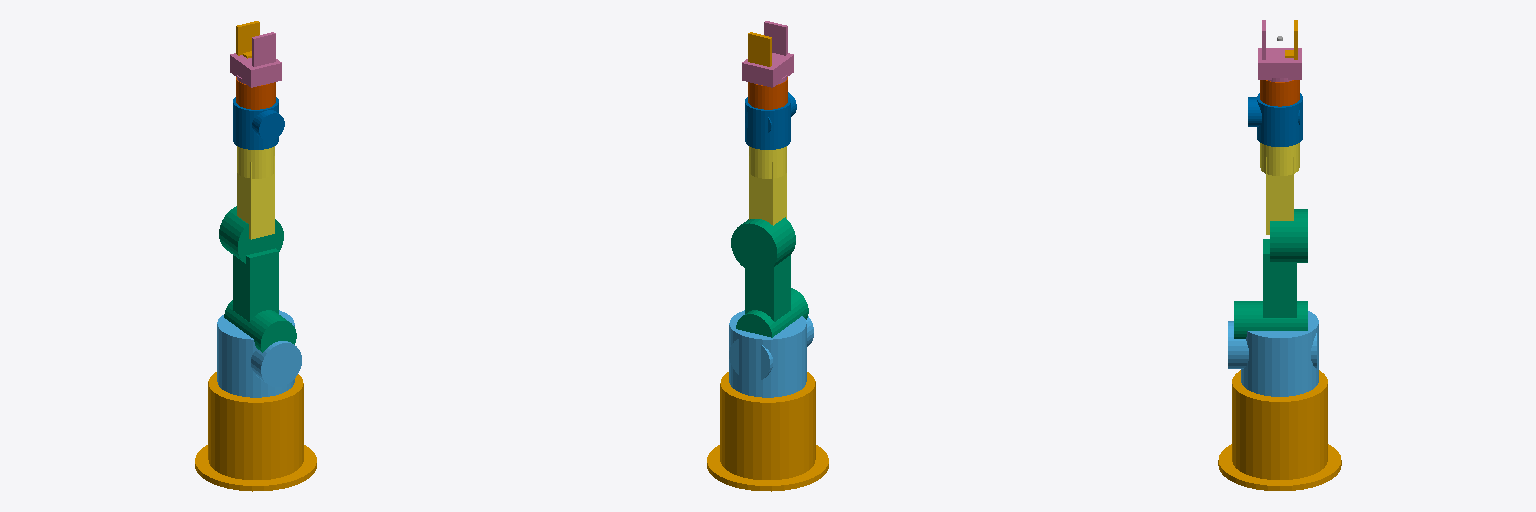
robot.urdf — ita6:
<?xml version="1.0"?>
<!--
  ITA-6 : 6-DOF spherical-wrist manipulator, with parallel-jaw gripper.

  GENERATED by examples/ita6/design_ita6.py : do not hand-edit; re-run the
  script. Link lengths are the winner of a 6x6 design sweep scored on
  caliper's own reachability / manipulability / limit-margin analysis over a
  150 x 240 x 160 mm table-top work zone.

  KINEMATICS (canonical spherical-wrist 6R; every joint origin rpy = 0):
    J1 yaw    axis Z at z = 0.125 m
    J2 pitch  axis Y  (shoulder)      L2 = 0.16 m to the elbow
    J3 pitch  axis Y  (elbow)         L3 = 0.19 m to the wrist centre
    J4 roll   axis Z  |
    J5 pitch  axis Y  +-  these three axes intersect at the WRIST CENTRE
    J6 roll   axis Z  |
    tcp_mount fixed, +0.1 m -> TCP (the frame IK and the task address)
  Reach, base axis -> TCP, arm extended: 0.45 m.

  MASS MODEL : composed analytically from a bill of materials, not guessed:
    aluminium 6061 tube/plate  rho = 2700 kg/m^3   (walls modelled as real walls)
    PLA-CF printed shells      rho = 1240 kg/m^3  (hollow geometry, solid wall)
    steel shafts/screws        rho = 7850 kg/m^3
    NEMA17 0.3 kg | NEMA14 0.14 kg | NEMA11 0.07 kg
    strain wave 0.13 kg | planetary 0.16/0.06/0.03 kg
  Each <inertial> is the parallel-axis sum of those primitives about the link
  COM : valid by construction, which is why A002 passes without tuning.

  DRIVETRAIN -> <limit> (tau_out = tau_motor * ratio * efficiency):
    J1 NEMA17 0.50 N.m x 30:1 belt+planetary x 0.80 -> 12 N.m, 2.433 rad/s
    J2 NEMA17 0.50 N.m x 30:1 strain wave    x 0.80 -> 12 N.m, 2.433 rad/s
    J3 NEMA17 0.50 N.m x 30:1 strain wave    x 0.80 -> 12 N.m, 2.433 rad/s
    J4 NEMA14 0.22 N.m x 20:1 planetary      x 0.75 -> 3.3 N.m, 3.65 rad/s
    J5 NEMA14 0.22 N.m x 20:1 planetary      x 0.75 -> 3.3 N.m, 3.65 rad/s
    J6 NEMA11 0.09 N.m x 14:1 planetary      x 0.75 -> 0.945 N.m, 5.214 rad/s

  Every <collision> is also the <visual>: the shape the doctor lints, the shape
  MuJoCo integrates and the shape the render shows are one object.
-->
<robot name="ita6">

  <link name="base">
    <inertial>
      <origin xyz="0 0 0.0427254" rpy="0 0 0"/>
      <mass value="1.21699"/>
      <inertia ixx="0.0032105318" ixy="0" ixz="0" iyy="0.0032105318" iyz="0" izz="0.0026281716"/>
    </inertial>
    <visual>
      <origin xyz="0 0 0.004" rpy="0 0 0"/>
      <geometry><cylinder radius="0.082" length="0.008"/></geometry>
    </visual>
    <collision>
      <origin xyz="0 0 0.004" rpy="0 0 0"/>
      <geometry><cylinder radius="0.082" length="0.008"/></geometry>
    </collision>
    <visual>
      <origin xyz="0 0 0.0655" rpy="0 0 0"/>
      <geometry><cylinder radius="0.064" length="0.115"/></geometry>
    </visual>
    <collision>
      <origin xyz="0 0 0.0655" rpy="0 0 0"/>
      <geometry><cylinder radius="0.064" length="0.115"/></geometry>
    </collision>
  </link>
  <link name="shoulder">
    <inertial>
      <origin xyz="0 -0.0179585 0.0497035" rpy="0 0 0"/>
      <mass value="0.62366"/>
      <inertia ixx="0.00092130391" ixy="0" ixz="0" iyy="0.00042553389" iyz="2.57203e-05" izz="0.00099364391"/>
    </inertial>
    <visual>
      <origin xyz="0 0 0.043" rpy="0 0 0"/>
      <geometry><cylinder radius="0.052" length="0.086"/></geometry>
    </visual>
    <collision>
      <origin xyz="0 0 0.043" rpy="0 0 0"/>
      <geometry><cylinder radius="0.052" length="0.086"/></geometry>
    </collision>
    <visual>
      <origin xyz="0 -0.01 0.052" rpy="1.5708 0 0"/>
      <geometry><cylinder radius="0.032" length="0.118"/></geometry>
    </visual>
    <collision>
      <origin xyz="0 -0.01 0.052" rpy="1.5708 0 0"/>
      <geometry><cylinder radius="0.032" length="0.118"/></geometry>
    </collision>
  </link>
  <link name="upper_arm">
    <inertial>
      <origin xyz="0 -0.0193916 0.073646" rpy="0 0 0"/>
      <mass value="0.569317"/>
      <inertia ixx="0.0022936241" ixy="0" ixz="0" iyy="0.001919812" iyz="-0.00069665222" izz="0.00056807286"/>
    </inertial>
    <visual>
      <origin xyz="0 0 0.08" rpy="0 0 0"/>
      <geometry><box size="0.046 0.046 0.13"/></geometry>
    </visual>
    <collision>
      <origin xyz="0 0 0.08" rpy="0 0 0"/>
      <geometry><box size="0.046 0.046 0.13"/></geometry>
    </collision>
    <visual>
      <origin xyz="0 -0.012 0.034" rpy="1.5708 0 0"/>
      <geometry><cylinder radius="0.028" length="0.098"/></geometry>
    </visual>
    <collision>
      <origin xyz="0 -0.012 0.034" rpy="1.5708 0 0"/>
      <geometry><cylinder radius="0.028" length="0.098"/></geometry>
    </collision>
    <visual>
      <origin xyz="0 0.012 0.16" rpy="1.5708 0 0"/>
      <geometry><cylinder radius="0.036" length="0.05"/></geometry>
    </visual>
    <collision>
      <origin xyz="0 0.012 0.16" rpy="1.5708 0 0"/>
      <geometry><cylinder radius="0.036" length="0.05"/></geometry>
    </collision>
  </link>
  <link name="forearm">
    <inertial>
      <origin xyz="0 0 0.109221" rpy="0 0 0"/>
      <mass value="0.270426"/>
      <inertia ixx="0.00038567942" ixy="0" ixz="0" iyy="0.00038567942" iyz="0" izz="5.5337355e-05"/>
    </inertial>
    <visual>
      <origin xyz="0 0 0.0675" rpy="0 0 0"/>
      <geometry><box size="0.038 0.038 0.115"/></geometry>
    </visual>
    <collision>
      <origin xyz="0 0 0.0675" rpy="0 0 0"/>
      <geometry><box size="0.038 0.038 0.115"/></geometry>
    </collision>
    <visual>
      <origin xyz="0 0 0.1275" rpy="0 0 0"/>
      <geometry><cylinder radius="0.026" length="0.055"/></geometry>
    </visual>
    <collision>
      <origin xyz="0 0 0.1275" rpy="0 0 0"/>
      <geometry><cylinder radius="0.026" length="0.055"/></geometry>
    </collision>
  </link>
  <link name="wrist1">
    <inertial>
      <origin xyz="0 -0.0107696 -0.00984596" rpy="0 0 0"/>
      <mass value="0.259992"/>
      <inertia ixx="0.00014848351" ixy="0" ixz="0" iyy="6.6973303e-05" iyz="5.1686909e-06" izz="0.000152724"/>
    </inertial>
    <visual>
      <origin xyz="0 0 -0.016" rpy="0 0 0"/>
      <geometry><cylinder radius="0.031" length="0.058"/></geometry>
    </visual>
    <collision>
      <origin xyz="0 0 -0.016" rpy="0 0 0"/>
      <geometry><cylinder radius="0.031" length="0.058"/></geometry>
    </collision>
    <visual>
      <origin xyz="0 -0.008 -0.008" rpy="1.5708 0 0"/>
      <geometry><cylinder radius="0.02" length="0.07"/></geometry>
    </visual>
    <collision>
      <origin xyz="0 -0.008 -0.008" rpy="1.5708 0 0"/>
      <geometry><cylinder radius="0.02" length="0.07"/></geometry>
    </collision>
  </link>
  <link name="wrist2">
    <inertial>
      <origin xyz="0 0 0.0229267" rpy="0 0 0"/>
      <mass value="0.14028"/>
      <inertia ixx="3.8183831e-05" ixy="0" ixz="0" iyy="3.8183831e-05" iyz="0" izz="3.2251516e-05"/>
    </inertial>
    <visual>
      <origin xyz="0 0 0.024" rpy="0 0 0"/>
      <geometry><cylinder radius="0.027" length="0.048"/></geometry>
    </visual>
    <collision>
      <origin xyz="0 0 0.024" rpy="0 0 0"/>
      <geometry><cylinder radius="0.027" length="0.048"/></geometry>
    </collision>
  </link>
  <link name="tool">
    <inertial>
      <origin xyz="0 -0.0036362 0.0670068" rpy="0 0 0"/>
      <mass value="0.133603"/>
      <inertia ixx="7.0171142e-05" ixy="0" ixz="0" iyy="5.8692446e-05" iyz="1.5056649e-05" izz="4.49105e-05"/>
    </inertial>
    <visual>
      <origin xyz="0 0 0.051" rpy="0 0 0"/>
      <geometry><cylinder radius="0.026" length="0.006"/></geometry>
    </visual>
    <collision>
      <origin xyz="0 0 0.051" rpy="0 0 0"/>
      <geometry><cylinder radius="0.026" length="0.006"/></geometry>
    </collision>
    <visual>
      <origin xyz="0 0 0.063" rpy="0 0 0"/>
      <geometry><box size="0.048 0.058 0.026"/></geometry>
    </visual>
    <collision>
      <origin xyz="0 0 0.063" rpy="0 0 0"/>
      <geometry><box size="0.048 0.058 0.026"/></geometry>
    </collision>
    <visual>
      <origin xyz="0 -0.021 0.098" rpy="0 0 0"/>
      <geometry><box size="0.034 0.006 0.042"/></geometry>
    </visual>
    <collision>
      <origin xyz="0 -0.021 0.098" rpy="0 0 0"/>
      <geometry><box size="0.034 0.006 0.042"/></geometry>
    </collision>
  </link>
  <link name="tcp">
    <inertial>
      <origin xyz="0 0 0" rpy="0 0 0"/>
      <mass value="0.000542867"/>
      <inertia ixx="2.8952918e-09" ixy="0" ixz="0" iyy="2.8952918e-09" iyz="0" izz="4.3429377e-09"/>
    </inertial>
    <visual>
      <origin xyz="0 0 0" rpy="0 0 0"/>
      <geometry><cylinder radius="0.004" length="0.004"/></geometry>
    </visual>
    <collision>
      <origin xyz="0 0 0" rpy="0 0 0"/>
      <geometry><cylinder radius="0.004" length="0.004"/></geometry>
    </collision>
  </link>
  <link name="jaw">
    <inertial>
      <origin xyz="0 -0.00138908 -0.0045145" rpy="0 0 0"/>
      <mass value="0.0279944"/>
      <inertia ixx="6.6012554e-06" ixy="0" ixz="0" iyy="8.58595e-06" iyz="-8.3549363e-07" izz="2.7964323e-06"/>
    </inertial>
    <visual>
      <origin xyz="0 0 0" rpy="0 0 0"/>
      <geometry><box size="0.034 0.006 0.042"/></geometry>
    </visual>
    <collision>
      <origin xyz="0 0 0" rpy="0 0 0"/>
      <geometry><box size="0.034 0.006 0.042"/></geometry>
    </collision>
    <visual>
      <origin xyz="0 -0.008 -0.026" rpy="0 0 0"/>
      <geometry><box size="0.02 0.014 0.014"/></geometry>
    </visual>
    <collision>
      <origin xyz="0 -0.008 -0.026" rpy="0 0 0"/>
      <geometry><box size="0.02 0.014 0.014"/></geometry>
    </collision>
  </link>

  <joint name="j1" type="revolute">
    <parent link="base"/><child link="shoulder"/>
    <origin xyz="0 0 0.125" rpy="0 0 0"/>
    <axis xyz="0 0 1"/>
    <limit lower="-3.054" upper="3.054" effort="12" velocity="2.433"/>
  </joint>
  <joint name="j2" type="revolute">
    <parent link="shoulder"/><child link="upper_arm"/>
    <origin xyz="0 0 0.052" rpy="0 0 0"/>
    <axis xyz="0 1 0"/>
    <limit lower="-2.094" upper="2.094" effort="12" velocity="2.433"/>
  </joint>
  <joint name="j3" type="revolute">
    <parent link="upper_arm"/><child link="forearm"/>
    <origin xyz="0 0 0.16" rpy="0 0 0"/>
    <axis xyz="0 1 0"/>
    <limit lower="-2.618" upper="2.618" effort="12" velocity="2.433"/>
  </joint>
  <joint name="j4" type="revolute">
    <parent link="forearm"/><child link="wrist1"/>
    <origin xyz="0 0 0.19" rpy="0 0 0"/>
    <axis xyz="0 0 1"/>
    <limit lower="-3.054" upper="3.054" effort="3.3" velocity="3.65"/>
  </joint>
  <joint name="j5" type="revolute">
    <parent link="wrist1"/><child link="wrist2"/>
    <origin xyz="0 0 0" rpy="0 0 0"/>
    <axis xyz="0 1 0"/>
    <limit lower="-2.094" upper="2.094" effort="3.3" velocity="3.65"/>
  </joint>
  <joint name="j6" type="revolute">
    <parent link="wrist2"/><child link="tool"/>
    <origin xyz="0 0 0" rpy="0 0 0"/>
    <axis xyz="0 0 1"/>
    <limit lower="-3.14" upper="3.14" effort="0.945" velocity="5.214"/>
  </joint>
  <joint name="tcp_mount" type="fixed">
    <parent link="tool"/><child link="tcp"/>
    <origin xyz="0 0 0.1" rpy="0 0 0"/>
  </joint>
  <joint name="gripper" type="prismatic">
    <parent link="tool"/><child link="jaw"/>
    <origin xyz="0 0.021 0.098" rpy="0 0 0"/>
    <axis xyz="0 1 0"/>
    <limit lower="0" upper="0.04" effort="60" velocity="0.05"/>
  </joint>
</robot>

--- Render facts (derived) ---
Views: 3 orthographic renders of the robot side by side, from view 1: azimuth 30°, elevation 25°; view 2: azimuth 150°, elevation 25°; view 3: azimuth 270°, elevation 25°.
Robot: ita6 — 9 links, 8 joints (6 revolute, 1 prismatic, 1 fixed); root link base; default pose: all joints at 0.
Links seen in each view (by area): view 1: base, upper_arm, shoulder, forearm, wrist1, tool, wrist2, jaw; view 2: base, upper_arm, shoulder, forearm, wrist1, tool, wrist2, jaw; view 3: base, upper_arm, shoulder, forearm, wrist1, tool, wrist2.
Boxes of the visible links, x1,y1,x2,y2 form: base: (195,372,316,491); upper_arm: (219,206,296,352); shoulder: (217,310,301,397); forearm: (237,146,274,239); wrist1: (233,97,284,149); tool: (230,32,281,87); wrist2: (236,77,275,109); jaw: (236,21,259,58); base: (707,372,828,491); upper_arm: (731,217,808,337); shoulder: (729,310,813,397); forearm: (749,146,786,225); wrist1: (745,92,796,149); tool: (742,21,793,87); wrist2: (748,77,787,109); jaw: (748,32,771,66); base: (1218,370,1341,490); upper_arm: (1234,209,1307,338); shoulder: (1228,311,1318,396); forearm: (1260,143,1299,234); wrist1: (1248,93,1302,146); tool: (1258,20,1301,81); wrist2: (1260,80,1299,106).
Bounding box of the posed robot: 0.164 × 0.164 × 0.646 m (x, y, z).
Geometry: primitives only (box / cylinder / sphere), no mesh files.
